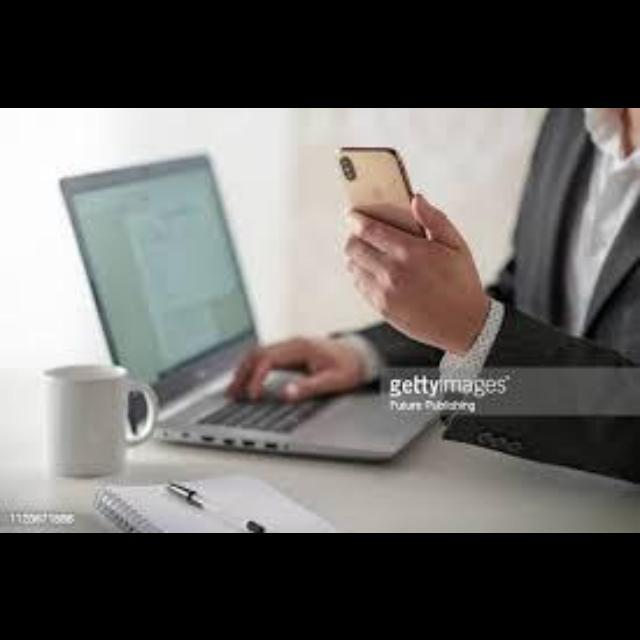Phone: (336, 136, 470, 316)
